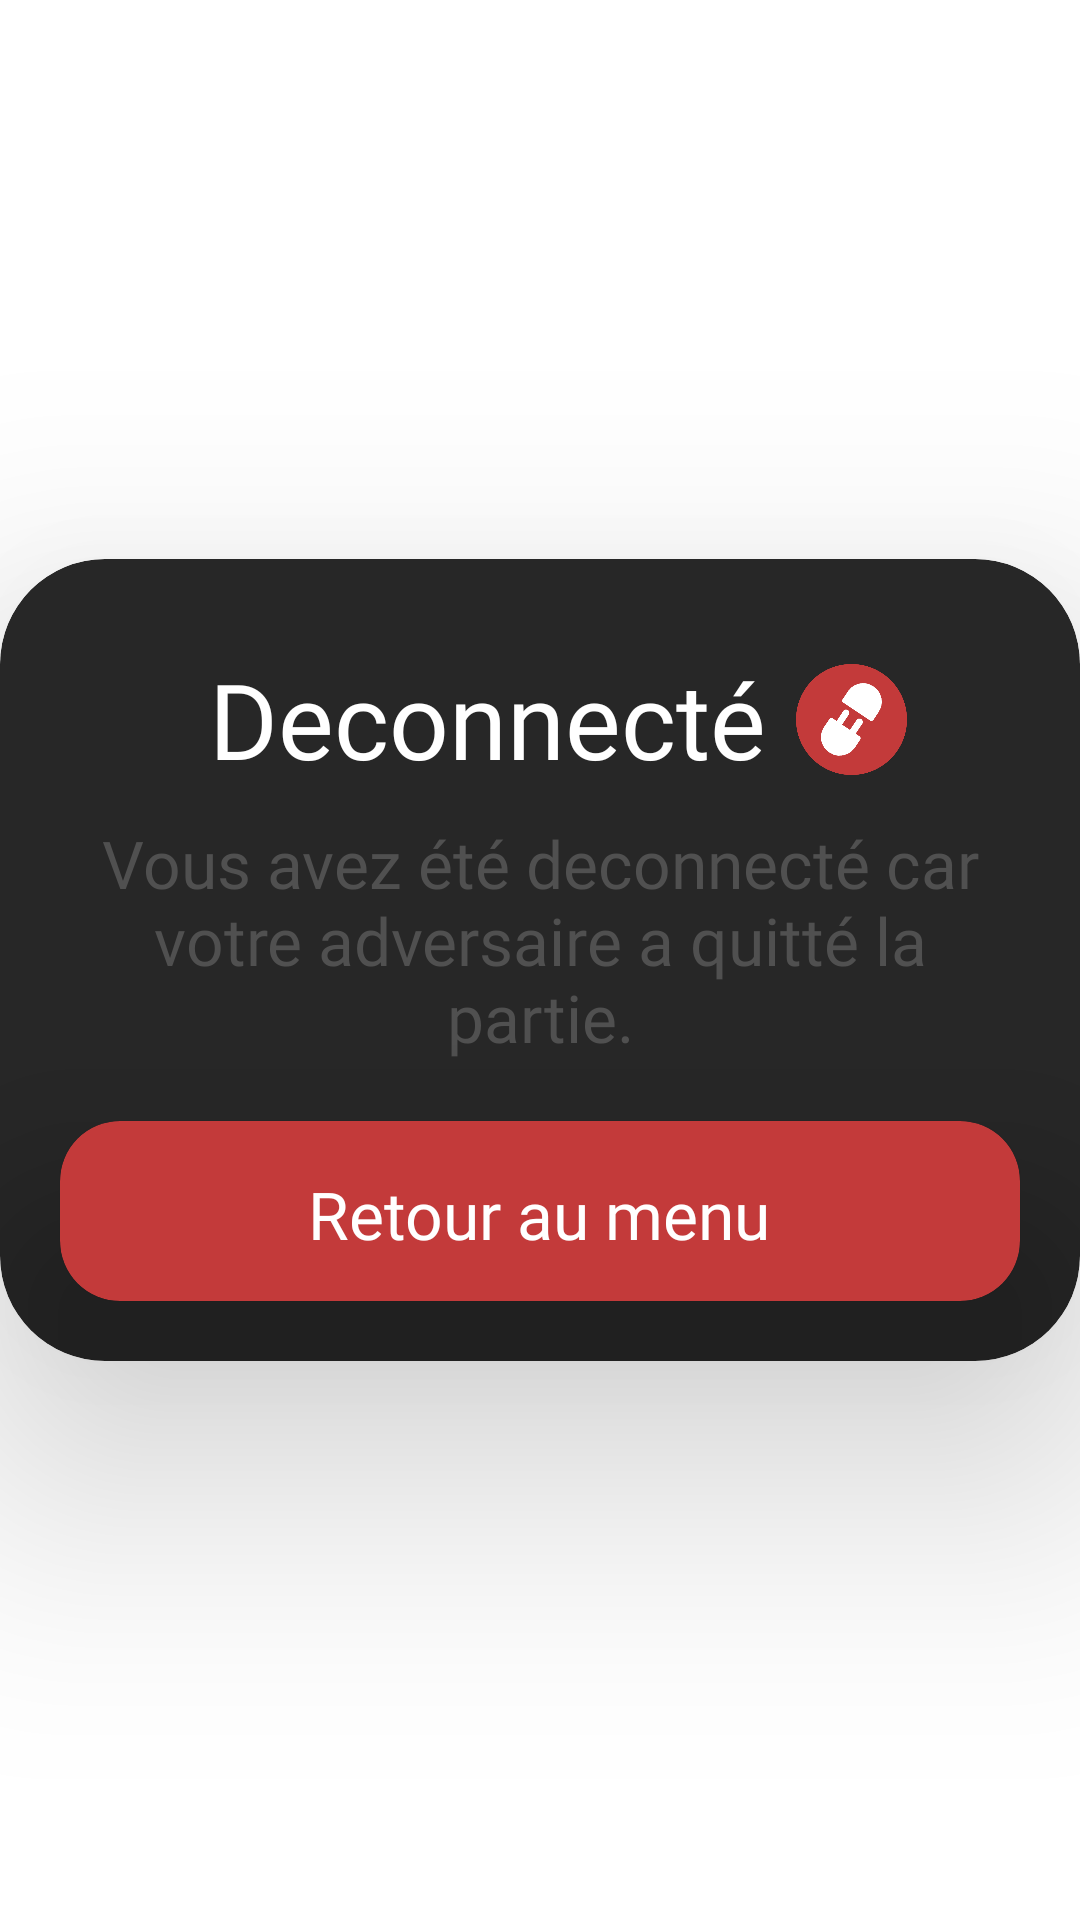

Icon click points for this 1080*1920 phone screenshot, format [x,y]:
deconnexion: [851,719]
